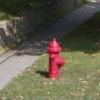Hydrant: (37, 31, 72, 82)
